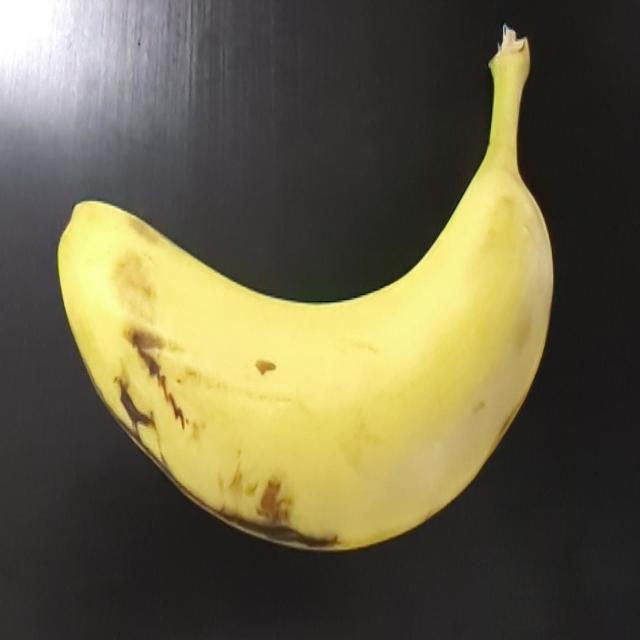Pisang: (48, 24, 594, 568)
